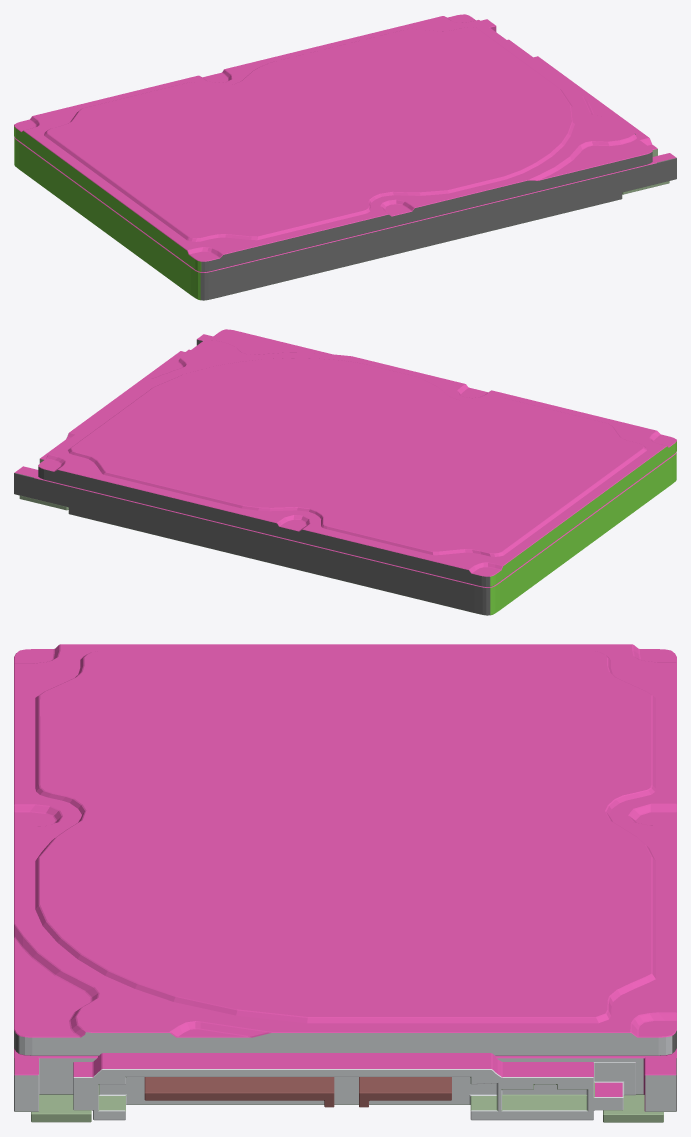
Rendered from HDD2.5.fbx.
3 views of the same model, one above another, from view 1: azimuth 30°, elevation 25°; view 2: azimuth 150°, elevation 25°; view 3: azimuth 270°, elevation 25° (orthographic). The views are drawn at different scales.
Parts seen in each view (by area): view 1: 2.5inch_HDD.000; view 2: 2.5inch_HDD.000; view 3: 2.5inch_HDD.000.
Part boxes in pixels (bbox=[...]): 2.5inch_HDD.000: bbox=[14, 14, 676, 300]; 2.5inch_HDD.000: bbox=[14, 329, 676, 615]; 2.5inch_HDD.000: bbox=[14, 644, 676, 1122].
Size of the model in its own units: 330 by 29.74 by 228.
